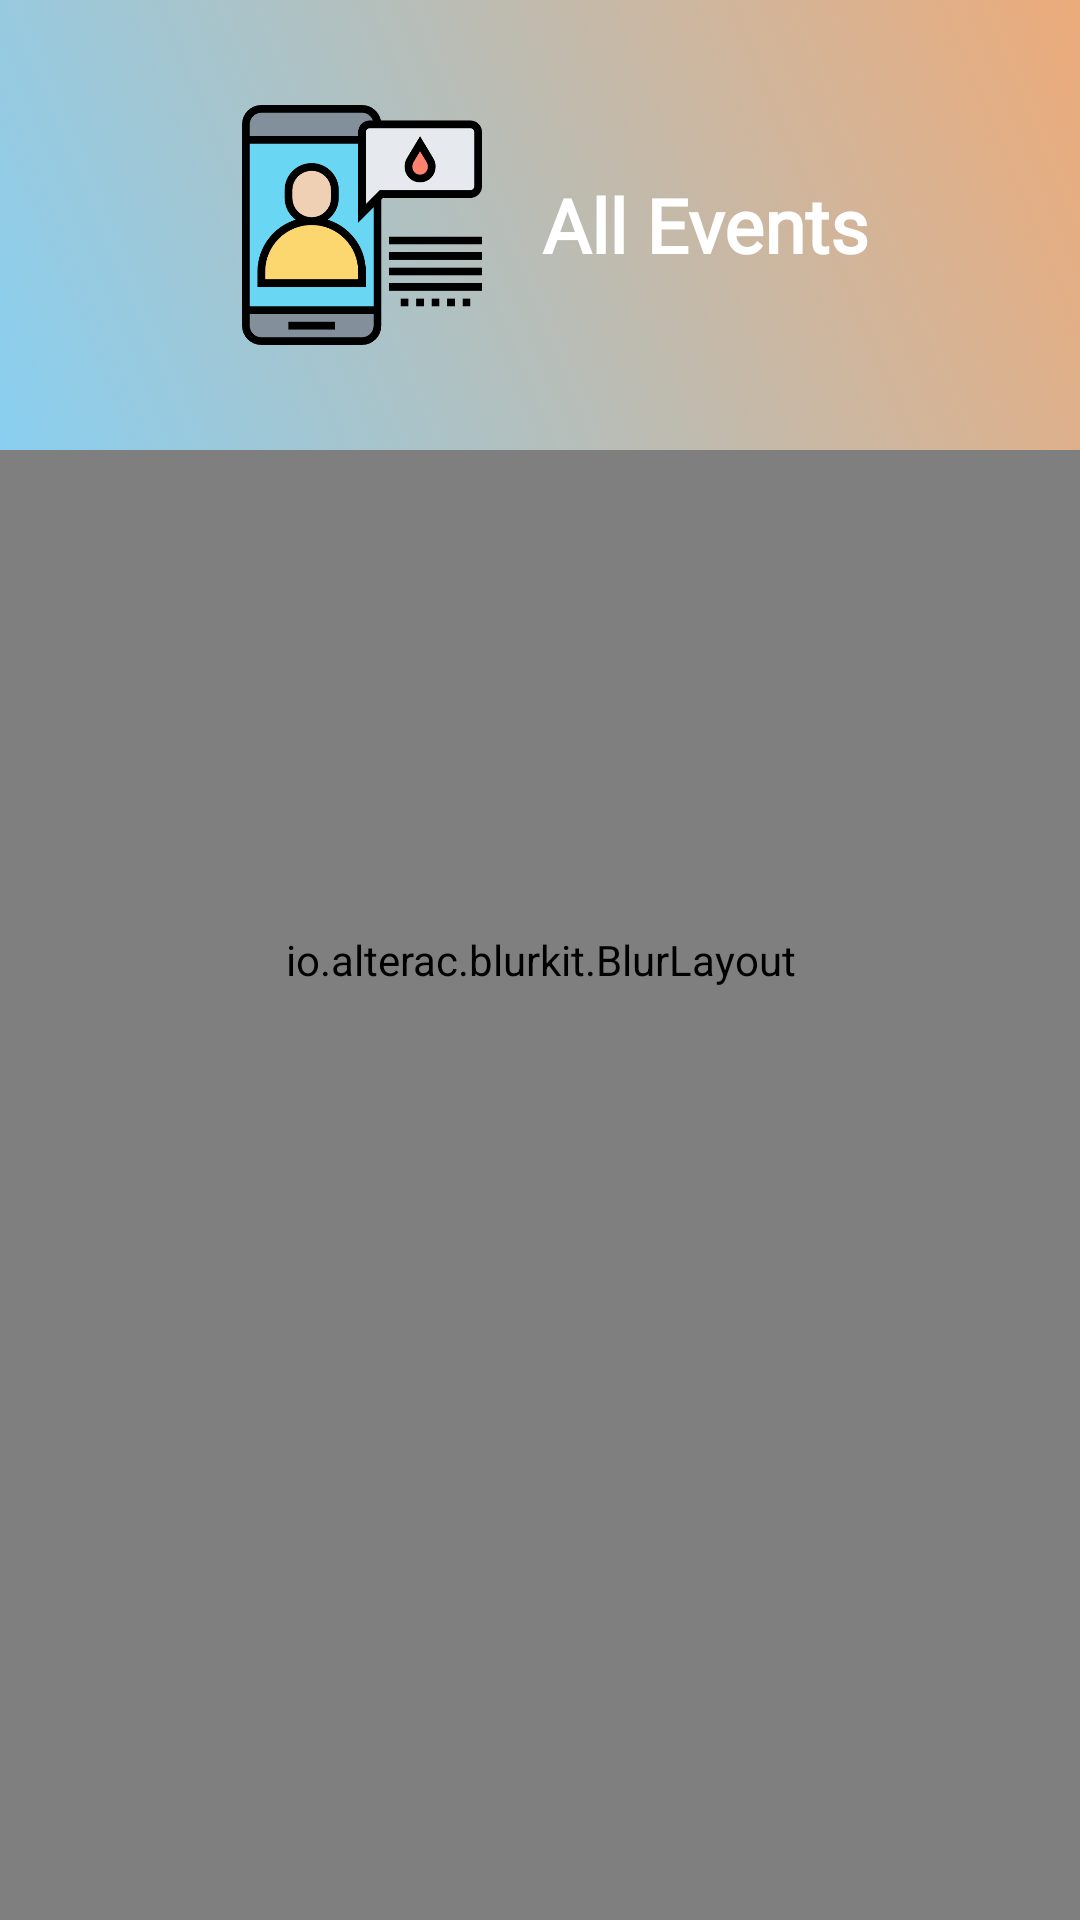

Where icons sit on this 1080w x 1920h app screen, as [x1,y1,x2,y2]:
Create Donation Event: [212,75,482,375]
